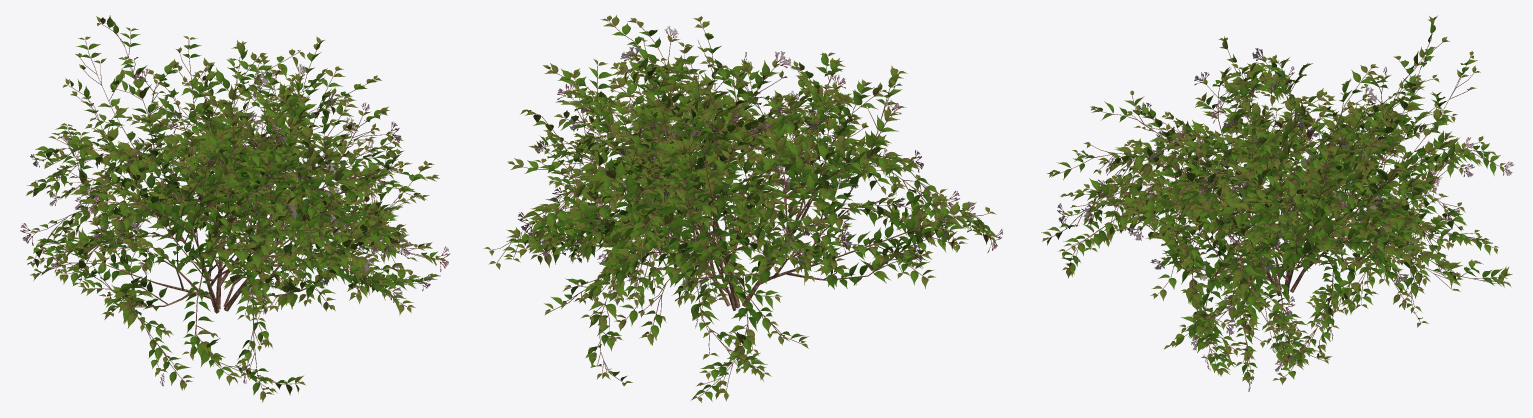
File: Kolkwitzia amabilis001_LOW.FBX
3 views of the same model, side by side, from view 1: azimuth 30°, elevation 25°; view 2: azimuth 150°, elevation 25°; view 3: azimuth 270°, elevation 25° (orthographic). The views are drawn at different scales.
Parts seen in each view (by area): view 1: Kolkwitzia amabilis001_LOW; view 2: Kolkwitzia amabilis001_LOW; view 3: Kolkwitzia amabilis001_LOW.
Boxes of the visible parts, left/top/right/bottom form: Kolkwitzia amabilis001_LOW: left=20, top=15, right=450, bottom=402; Kolkwitzia amabilis001_LOW: left=483, top=15, right=1002, bottom=402; Kolkwitzia amabilis001_LOW: left=1041, top=16, right=1514, bottom=391.
Size of the model in its own units: 2508 by 1482 by 2431.
